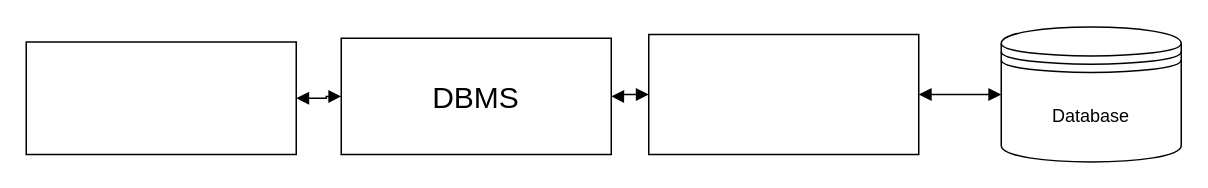
The diagram is 1208 pixels wide and 188 high, and some of its shapes have lost their labels. Each missing label, with the centre of its shape:
Operating System: the point at 783,93
Queries: the point at 160,97
